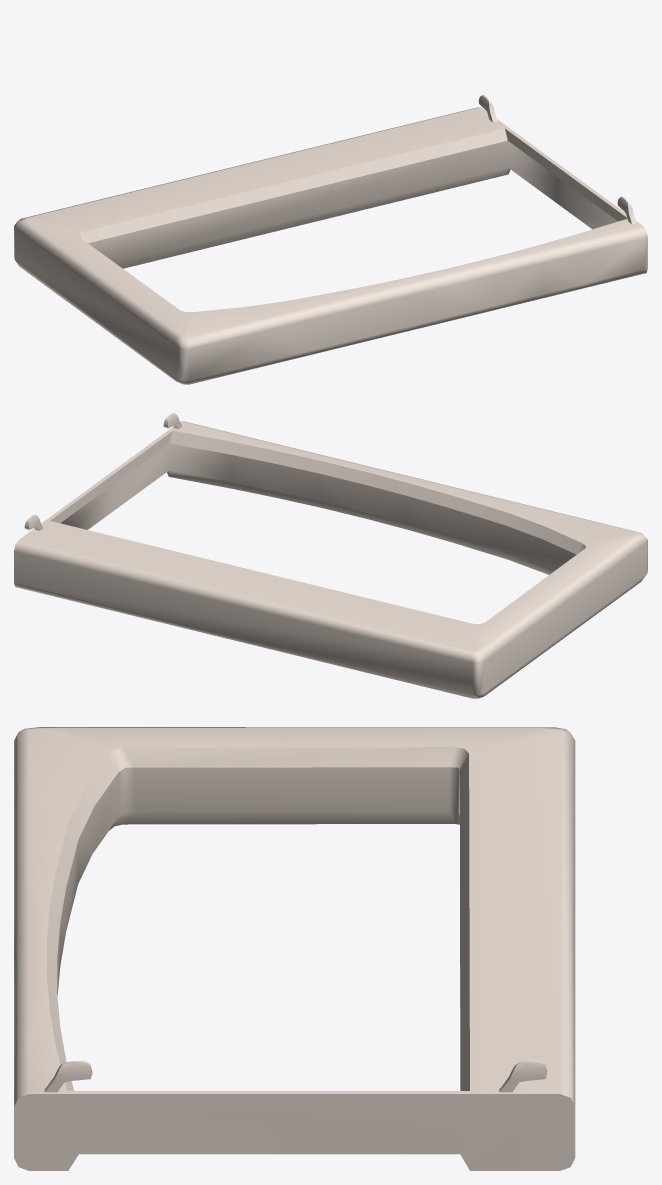
The model's file is DoormeshMicrowaveDoorC2_1_GeomSubset_0.obj.
3 renders of one model, top to bottom at view 1: azimuth 30°, elevation 25°; view 2: azimuth 150°, elevation 25°; view 3: azimuth 270°, elevation 25°, orthographic. The views are drawn at different scales.
Parts seen in each view (by area): view 1: DoormeshMicrowaveDoorC2_1_GeomSubset_0; view 2: DoormeshMicrowaveDoorC2_1_GeomSubset_0; view 3: DoormeshMicrowaveDoorC2_1_GeomSubset_0.
Boxes of the visible parts, x1,y1,x2,y2 form: DoormeshMicrowaveDoorC2_1_GeomSubset_0: [14, 95, 647, 384]; DoormeshMicrowaveDoorC2_1_GeomSubset_0: [14, 413, 647, 698]; DoormeshMicrowaveDoorC2_1_GeomSubset_0: [14, 727, 575, 1170].
Bounding box in the file's own units: 0.4882 × 0.1631 × 0.3512.
Materials: 1 (1 with a texture image).
